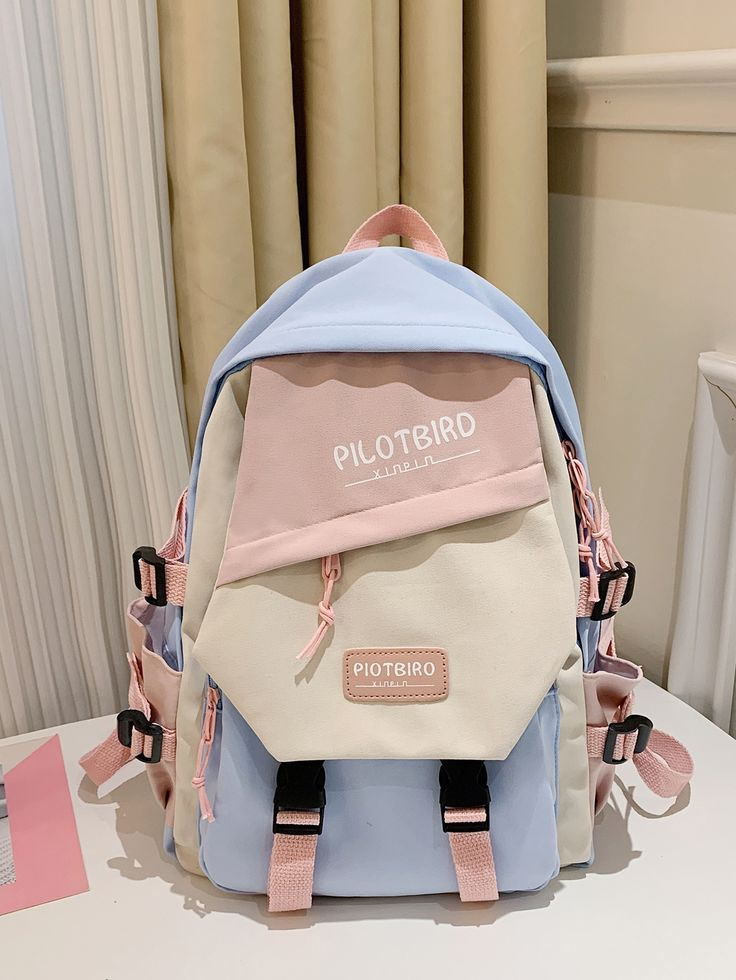nylon: (129, 203, 694, 915)
